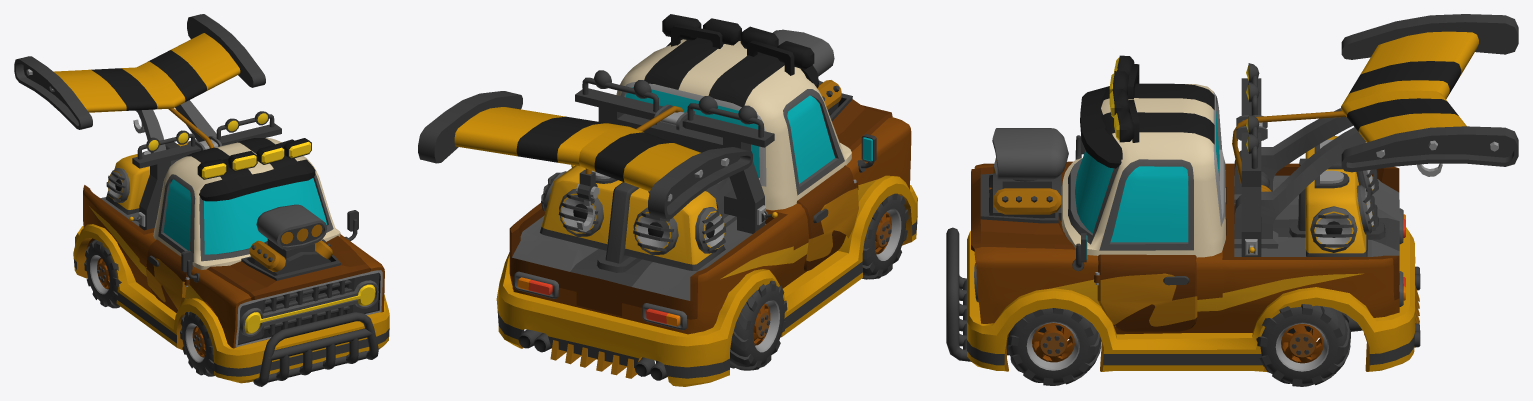
The model's file is VEH6-D.fbx.
3 views of the same model, side by side, from view 1: azimuth 30°, elevation 25°; view 2: azimuth 150°, elevation 25°; view 3: azimuth 270°, elevation 25° (orthographic). The views are drawn at different scales.
Parts seen in each view (by area): view 1: VEH6_D, V6D_Wheel_BR, V6D_Wheel_FR; view 2: VEH6_D, V6D_Wheel_BR, V6D_Wheel_FR; view 3: VEH6_D, V6D_Wheel_BL, V6D_Wheel_FL, V6D_BodyParts.
Boxes of the visible parts, x1,y1,x2,y2 form: VEH6_D: [14, 14, 389, 386]; V6D_Wheel_BR: [84, 239, 121, 308]; V6D_Wheel_FR: [180, 311, 214, 376]; VEH6_D: [418, 14, 917, 386]; V6D_Wheel_BR: [730, 280, 787, 370]; V6D_Wheel_FR: [862, 193, 908, 279]; VEH6_D: [946, 14, 1518, 371]; V6D_Wheel_BL: [1256, 304, 1350, 386]; V6D_Wheel_FL: [1006, 308, 1101, 385]; V6D_BodyParts: [1232, 111, 1345, 191].
Bounding box in the file's own units: 261 × 263 × 524.
1 material, 1 textured.
